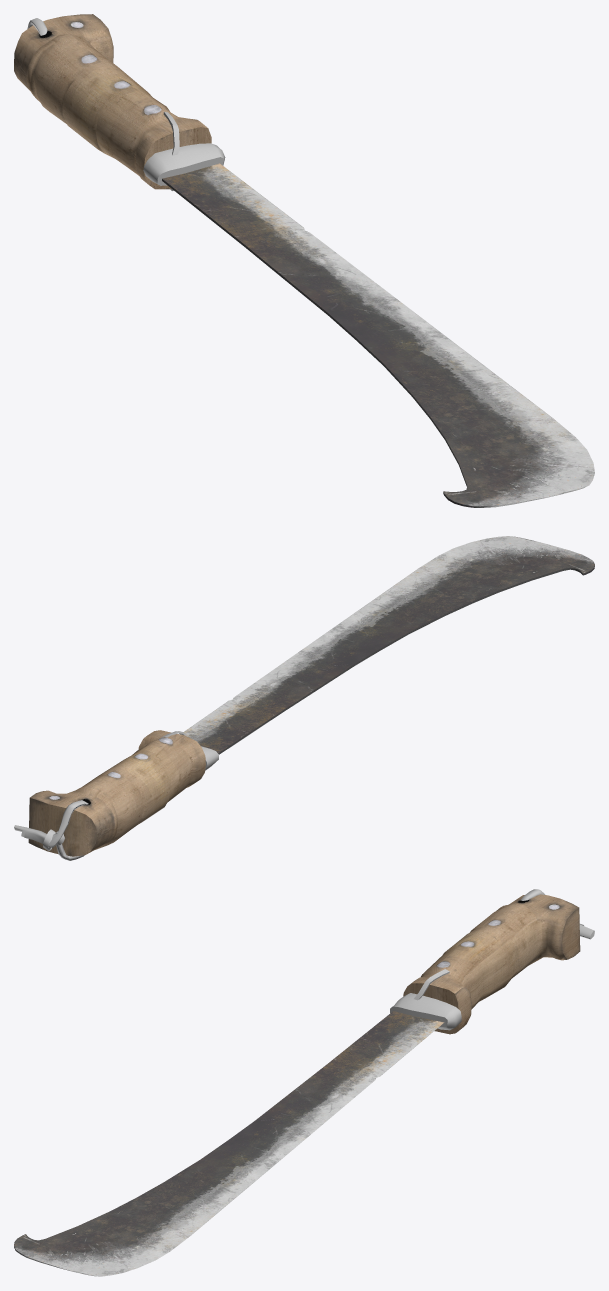
The model's file is machete.glb.
3 views of the same model, one above another, from view 1: azimuth 30°, elevation 25°; view 2: azimuth 150°, elevation 25°; view 3: azimuth 330°, elevation 25° (orthographic). The views are drawn at different scales.
Parts seen in each view (by area): view 1: Machete_Machete_0; view 2: Machete_Machete_0; view 3: Machete_Machete_0.
Boxes of the visible parts, left/top/right/bottom form: Machete_Machete_0: left=14, top=14, right=594, bottom=507; Machete_Machete_0: left=14, top=536, right=594, bottom=860; Machete_Machete_0: left=14, top=889, right=594, bottom=1276.
Size of the model in its own units: 0.1605 by 0.069 by 0.8864.
1 material, 1 textured.
